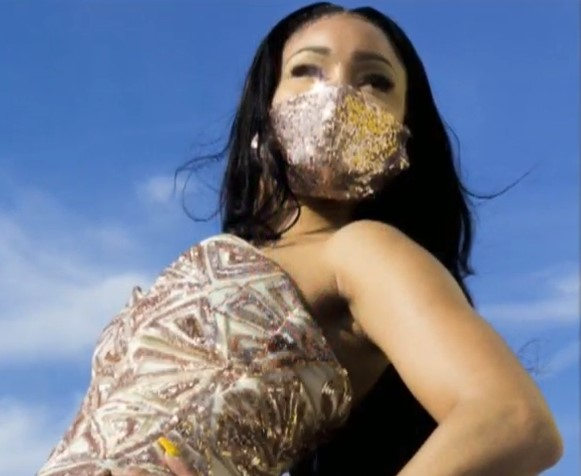face_with_mask: (248, 7, 418, 204)
